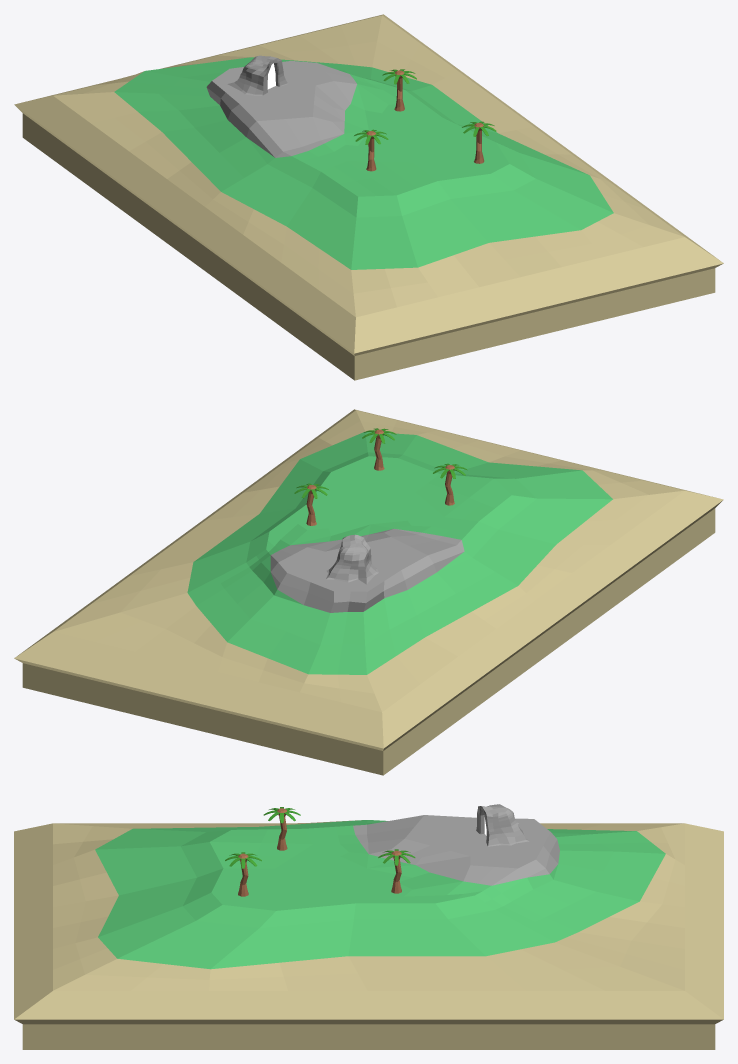
File: island3.glb
3 views of the same model, one above another, from view 1: azimuth 30°, elevation 25°; view 2: azimuth 150°, elevation 25°; view 3: azimuth 270°, elevation 25° (orthographic). The views are drawn at different scales.
Parts seen in each view (by area): view 1: Cube, Cube.001; view 2: Cube, Cube.001; view 3: Cube, Cube.001, Cube.003, Cube.004, Cube.005.
Boxes of the visible parts, x1=… form: Cube: x1=14, y1=14, x2=723, y2=380; Cube.001: x1=227, y1=55, x2=288, y2=95; Cube: x1=14, y1=409, x2=723, y2=775; Cube.001: x1=326, y1=534, x2=378, y2=584; Cube: x1=14, y1=815, x2=723, y2=1049; Cube.001: x1=476, y1=804, x2=529, y2=846; Cube.003: x1=225, y1=852, x2=261, y2=896; Cube.004: x1=378, y1=849, x2=415, y2=893; Cube.005: x1=263, y1=807, x2=300, y2=850.
Size of the model in its own units: 16.19 by 5.24 by 25.81.
